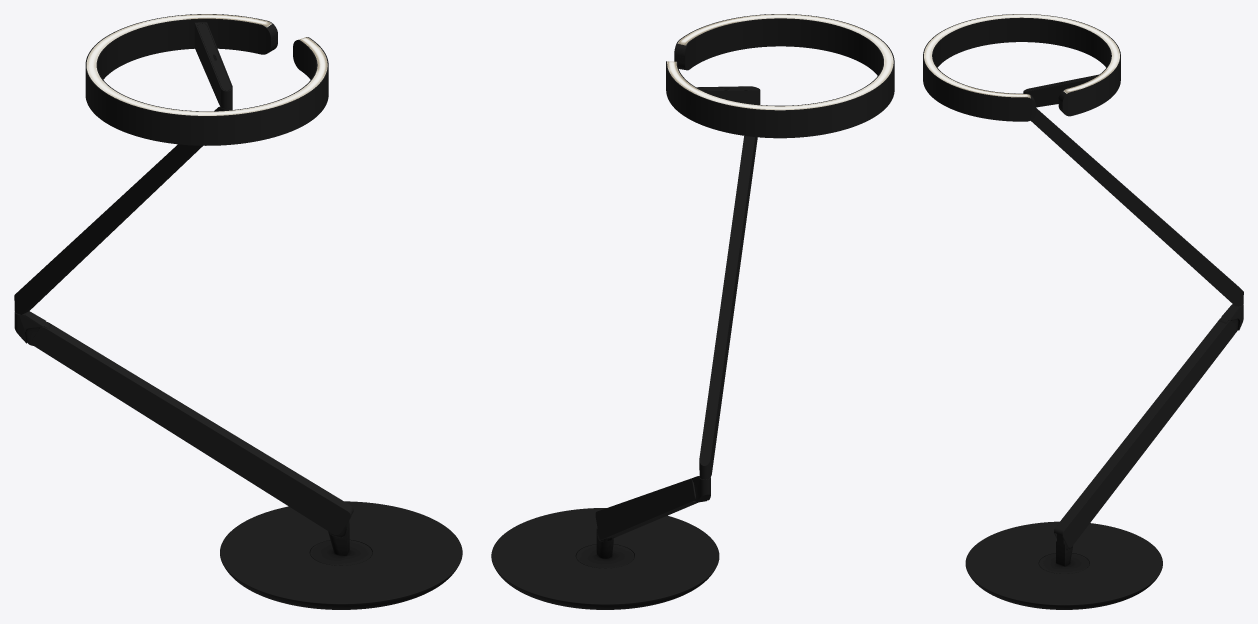
File: Asset5.glb
3 views of the same model, side by side, from view 1: azimuth 30°, elevation 25°; view 2: azimuth 150°, elevation 25°; view 3: azimuth 270°, elevation 25° (orthographic). The views are drawn at different scales.
Parts seen in each view (by area): view 1: base, headBrushed, body01, body02, headLedUp, forkLid, baseCenter, headGlossy, joint; view 2: base, headBrushed, body02, body01, headLedUp, headGlossy, baseCenter, forkLid; view 3: base, headBrushed, body01, body02, headLedUp, baseCenter, headGlossy, forkLid.
Part boxes in pixels (x1,y1,x2,y2): base: (220, 501, 462, 609); headBrushed: (85, 19, 328, 145); body01: (32, 321, 353, 535); body02: (14, 106, 232, 314); headLedUp: (86, 14, 327, 115); forkLid: (194, 22, 232, 108); baseCenter: (310, 520, 372, 565); headGlossy: (85, 14, 328, 116); joint: (14, 311, 50, 345); base: (491, 508, 719, 609); headBrushed: (666, 19, 894, 138); body02: (699, 136, 757, 479); body01: (595, 478, 698, 539); headLedUp: (667, 14, 893, 110); headGlossy: (666, 14, 894, 110); baseCenter: (576, 528, 634, 568); forkLid: (696, 86, 760, 104); base: (965, 521, 1162, 609); headBrushed: (923, 18, 1120, 121); body01: (1054, 317, 1236, 547); body02: (1031, 108, 1243, 306); headLedUp: (924, 14, 1119, 98); baseCenter: (1039, 534, 1089, 573); headGlossy: (923, 14, 1120, 113); forkLid: (1023, 74, 1098, 107).
Bounding box in the file's own units: 0.528 × 0.7607 × 0.4866.
11 materials, 9 textured.
